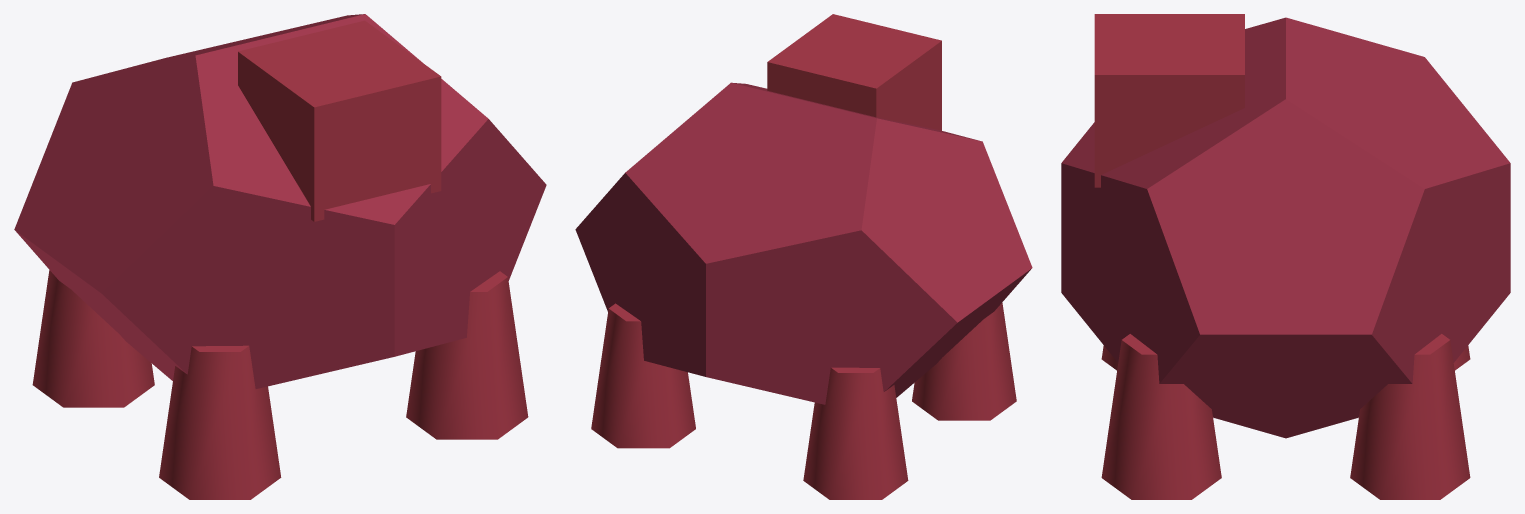
The model's file is elite_rock_beast.glb.
3 views of the same model, side by side, from view 1: azimuth 30°, elevation 25°; view 2: azimuth 150°, elevation 25°; view 3: azimuth 270°, elevation 25° (orthographic). The views are drawn at different scales.
Parts seen in each view (by area): view 1: body, head, leg_1, leg_0, leg_3; view 2: body, head, leg_3, leg_2, leg_1; view 3: body, head, leg_0, leg_2.
Part boxes in pixels (x1,y1,x2,y2): body: [14, 14, 546, 388]; head: [238, 20, 441, 221]; leg_1: [159, 345, 281, 499]; leg_0: [406, 271, 528, 439]; leg_3: [32, 270, 154, 407]; body: [575, 82, 1032, 404]; head: [767, 14, 941, 130]; leg_3: [803, 367, 908, 499]; leg_2: [591, 303, 695, 448]; leg_1: [912, 302, 1016, 420]; body: [1061, 17, 1510, 438]; head: [1094, 14, 1244, 187]; leg_0: [1101, 334, 1221, 499]; leg_2: [1350, 334, 1470, 499].
Size of the model in its own units: 3.08 by 2.51 by 2.74.
